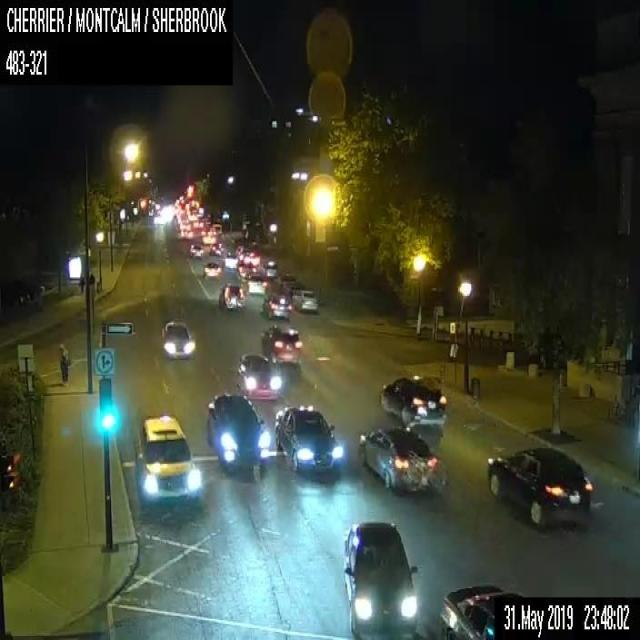pedestrian: (57, 341, 69, 384), (78, 273, 85, 295), (88, 272, 95, 284)
vehicle: (342, 519, 419, 633), (486, 446, 592, 526), (134, 413, 201, 503), (205, 392, 272, 468), (359, 427, 437, 492), (437, 582, 525, 638), (272, 402, 342, 470), (379, 376, 446, 430), (238, 353, 280, 399), (260, 322, 300, 363), (159, 317, 192, 359), (261, 293, 291, 320), (218, 282, 245, 309), (291, 288, 317, 311), (246, 272, 267, 294), (258, 254, 276, 276), (202, 260, 221, 277), (222, 252, 237, 269), (242, 251, 258, 266), (237, 247, 250, 265), (200, 232, 215, 245), (209, 242, 222, 255), (188, 244, 202, 256), (178, 227, 192, 238)
